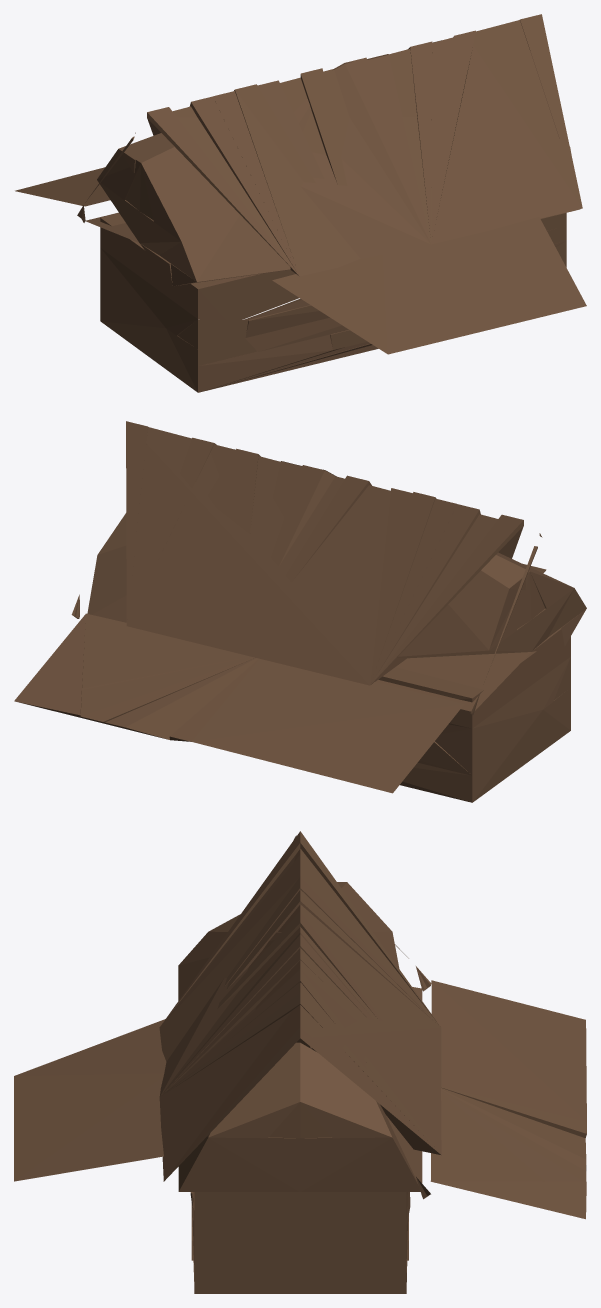
Rendered from sawmill.zfix-v14.lod2.glb.
The picture shows the model from 3 angles, top to bottom: view 1: azimuth 30°, elevation 25°; view 2: azimuth 150°, elevation 25°; view 3: azimuth 270°, elevation 25°; orthographic projection. The views are drawn at different scales.
Visible parts, largest first — view 1: Sawmill_Default_0; view 2: Sawmill_Default_0; view 3: Sawmill_Default_0.
Boxes of the visible parts, bbox=[...] form: Sawmill_Default_0: bbox=[15, 14, 586, 392]; Sawmill_Default_0: bbox=[14, 421, 586, 802]; Sawmill_Default_0: bbox=[14, 831, 586, 1293].
Size of the model in its own units: 10.23 by 5.89 by 11.4.
